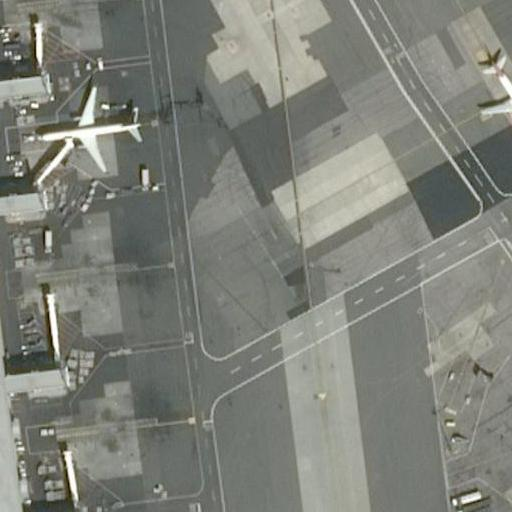Aircraft: (26, 79, 145, 174), (471, 46, 512, 132)
